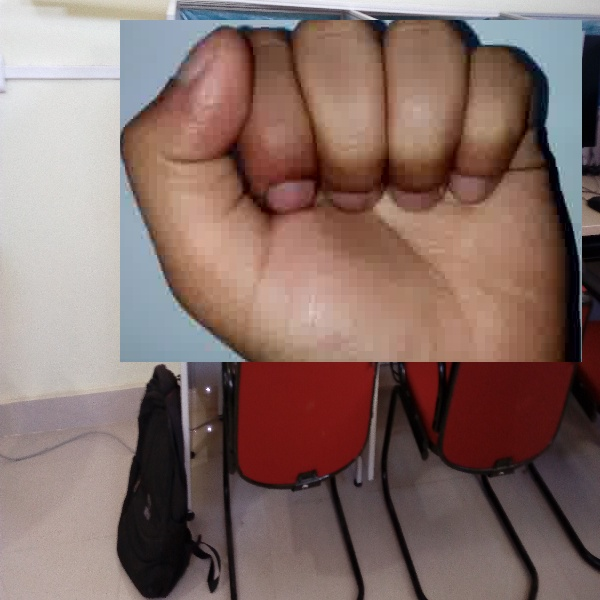A: (120, 20, 582, 362)
